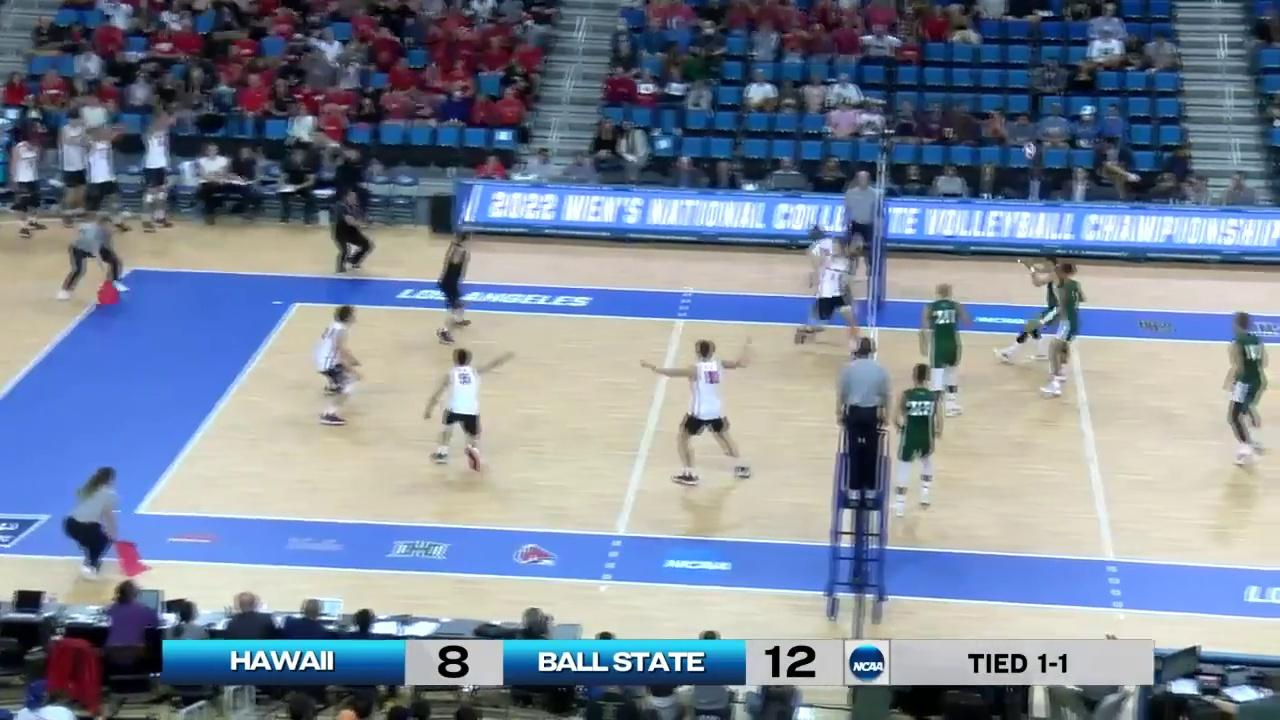player: (651, 341, 759, 486), (885, 362, 939, 517), (1222, 312, 1272, 466), (427, 349, 489, 473), (922, 283, 974, 419), (999, 256, 1061, 366), (801, 241, 858, 357), (1043, 265, 1087, 399), (315, 307, 363, 427), (809, 227, 851, 331), (436, 229, 473, 342)
refree: (833, 336, 891, 519), (64, 466, 127, 580), (52, 214, 127, 302), (843, 171, 881, 277)
